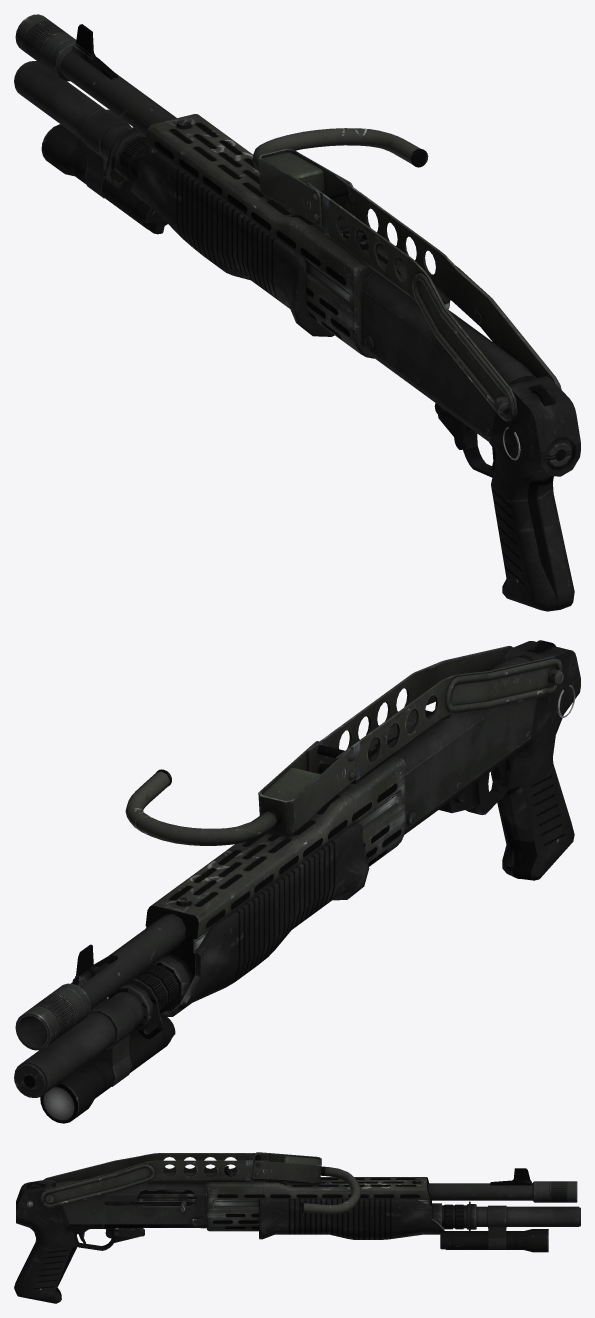
File: spas12.glb
3 views of the same model, one above another, from view 1: azimuth 30°, elevation 25°; view 2: azimuth 150°, elevation 25°; view 3: azimuth 270°, elevation 25° (orthographic). The views are drawn at different scales.
Visible parts, largest first — view 1: SPAS12, spas12_pump_Object_8.001; view 2: SPAS12, spas12_pump_Object_8.001; view 3: SPAS12, spas12_pump_Object_8.001, spas12_bolt_Object_8.001.
Part boxes in pixels (bbox=[...]): SPAS12: bbox=[14, 14, 580, 611]; spas12_pump_Object_8.001: bbox=[131, 151, 334, 336]; SPAS12: bbox=[14, 640, 580, 1123]; spas12_pump_Object_8.001: bbox=[145, 822, 369, 1017]; SPAS12: bbox=[14, 1152, 580, 1303]; spas12_pump_Object_8.001: bbox=[259, 1199, 444, 1239]; spas12_bolt_Object_8.001: bbox=[131, 1190, 196, 1212].
Bounding box in the file's own units: 0.1526 × 0.2278 × 0.8111.
1 material, 1 textured.
